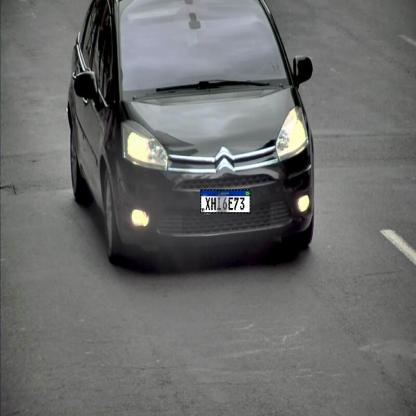PlacaM: (200, 189, 251, 214)
